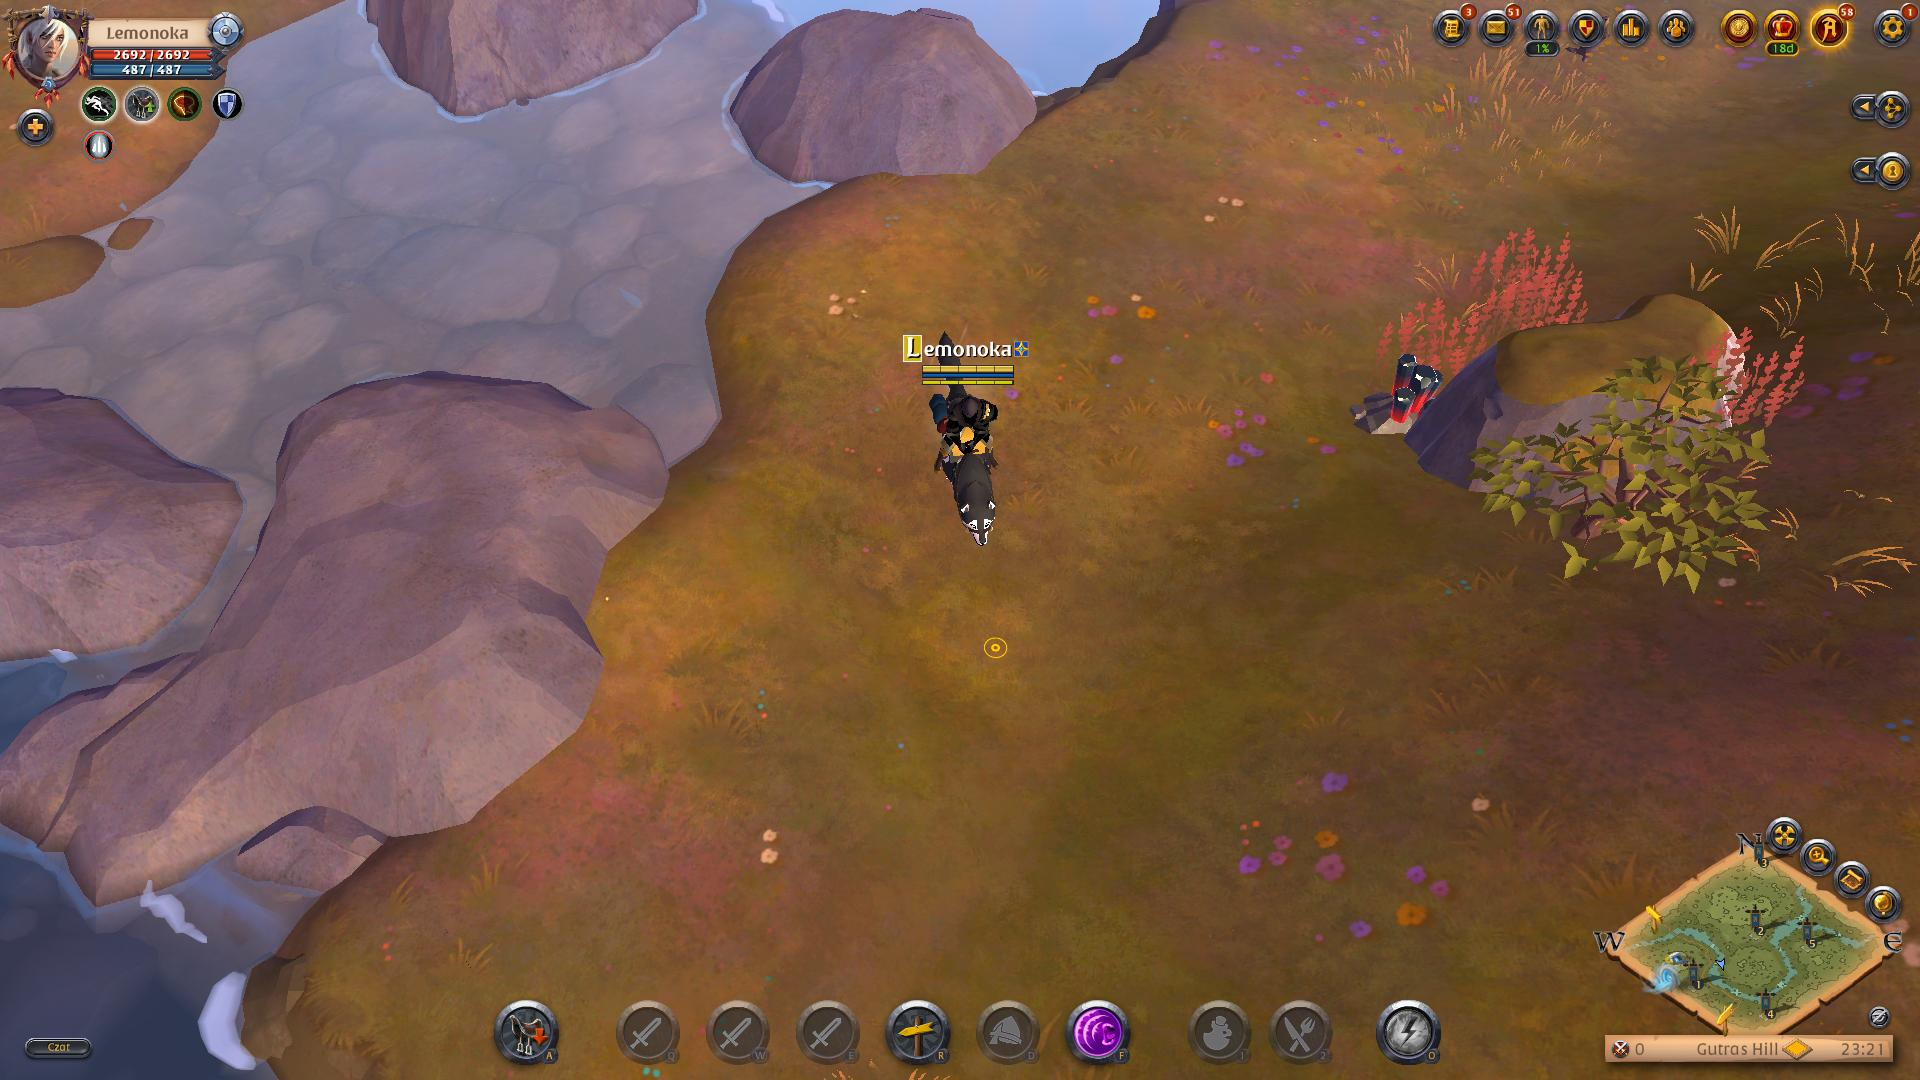ore tier 5: (1357, 352, 1452, 444)
